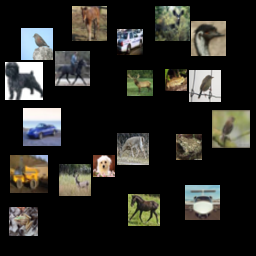airplane: (185, 185, 220, 220)
automobile: (23, 108, 61, 146), (117, 29, 143, 55)
bird: (212, 110, 250, 148), (191, 21, 226, 56), (189, 70, 221, 102), (21, 28, 53, 60)
deer: (155, 6, 190, 41), (59, 164, 91, 196), (117, 133, 149, 165), (127, 70, 153, 96)
dog: (5, 62, 43, 100), (93, 155, 115, 177)
frog: (9, 207, 38, 236), (176, 134, 202, 160), (165, 69, 187, 91)
